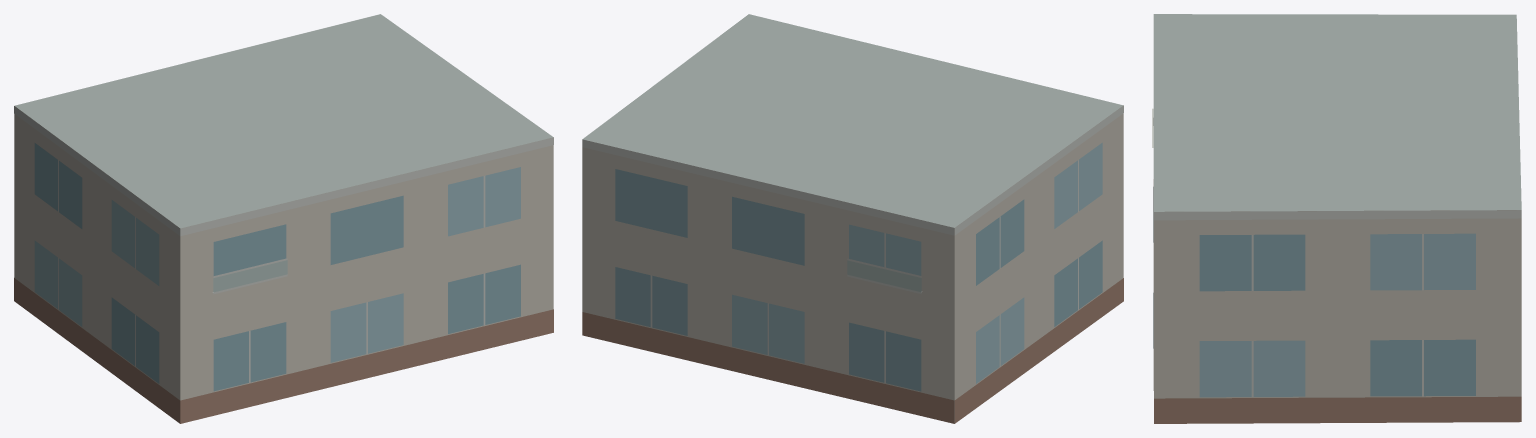
File: survey-upis-32825151.glb
3 renders of one model, left to right at view 1: azimuth 30°, elevation 25°; view 2: azimuth 150°, elevation 25°; view 3: azimuth 270°, elevation 25°, orthographic. The views are drawn at different scales.
Visible parts, largest first — view 1: survey-upis-32825151.tmp; view 2: survey-upis-32825151.tmp; view 3: survey-upis-32825151.tmp.
Boxes of the visible parts, x1=… form: survey-upis-32825151.tmp: x1=14, y1=14, x2=553, y2=423; survey-upis-32825151.tmp: x1=582, y1=14, x2=1123, y2=423; survey-upis-32825151.tmp: x1=1152, y1=14, x2=1521, y2=423.
Size of the model in its own units: 12.22 by 6.1 by 9.65.
